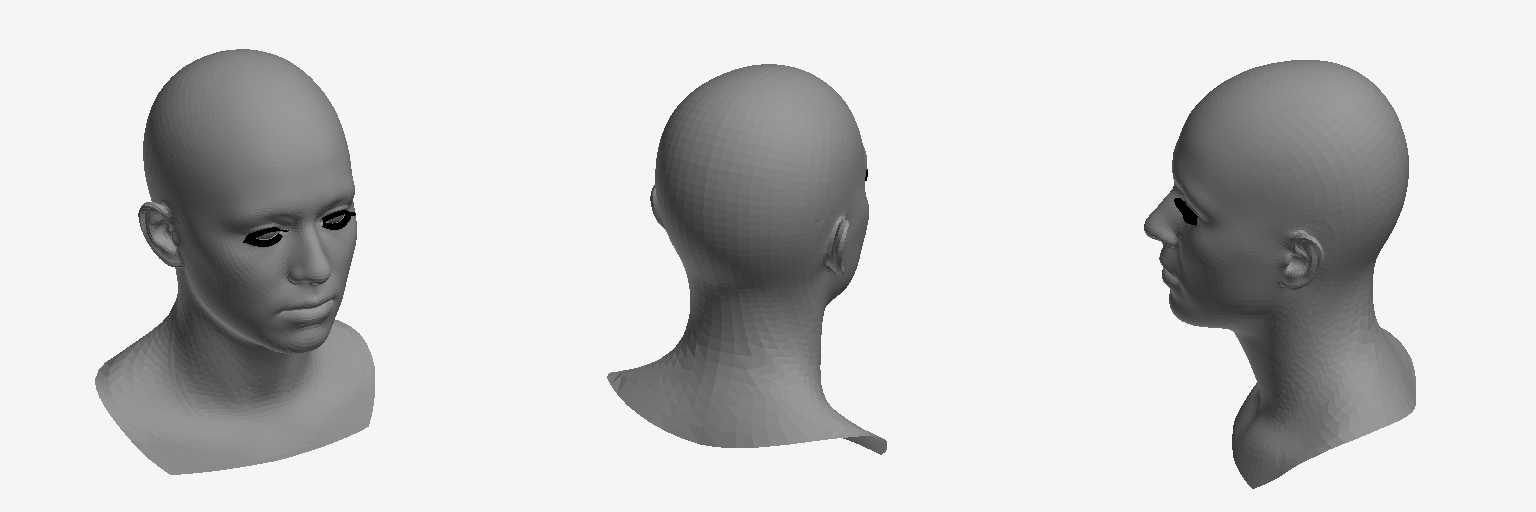
Rendered from identity044.obj.
3 renders of one model, left to right at view 1: azimuth 30°, elevation 25°; view 2: azimuth 150°, elevation 25°; view 3: azimuth 270°, elevation 25°, orthographic.
Size of the model in its own units: 24.81 by 33.82 by 22.34.